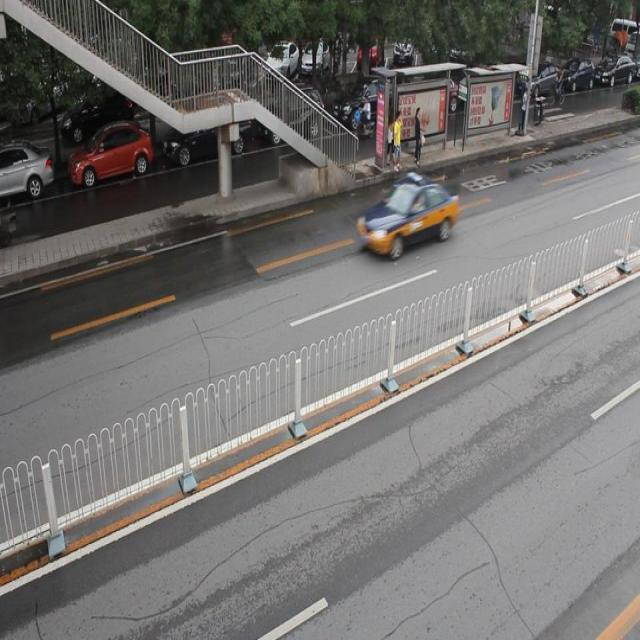car: (356, 172, 458, 262), (68, 123, 154, 188), (163, 101, 252, 162), (330, 77, 405, 134), (258, 85, 323, 147), (1, 140, 53, 200)
